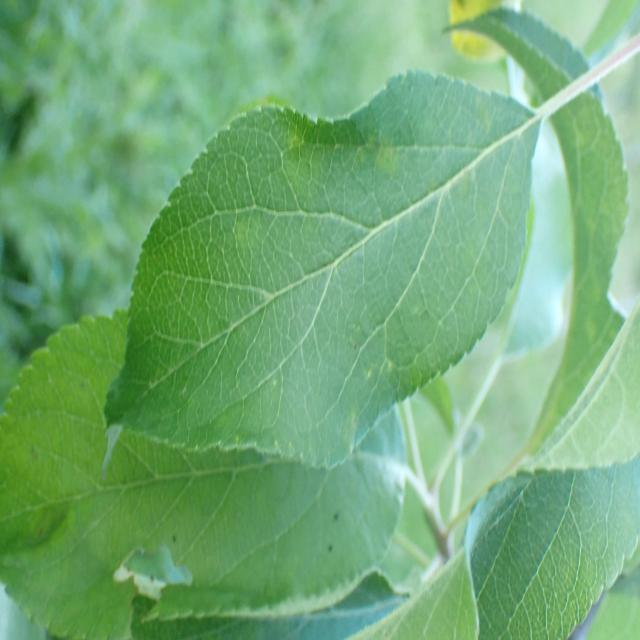scab: (143, 98, 477, 315)
